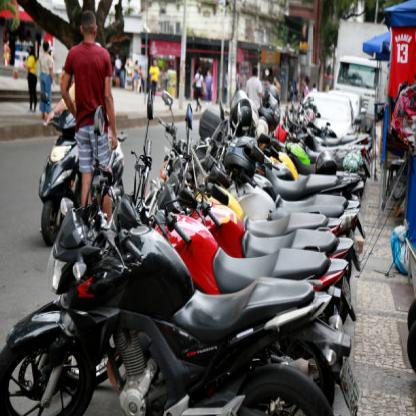Motorcycle: (2, 203, 348, 415)
